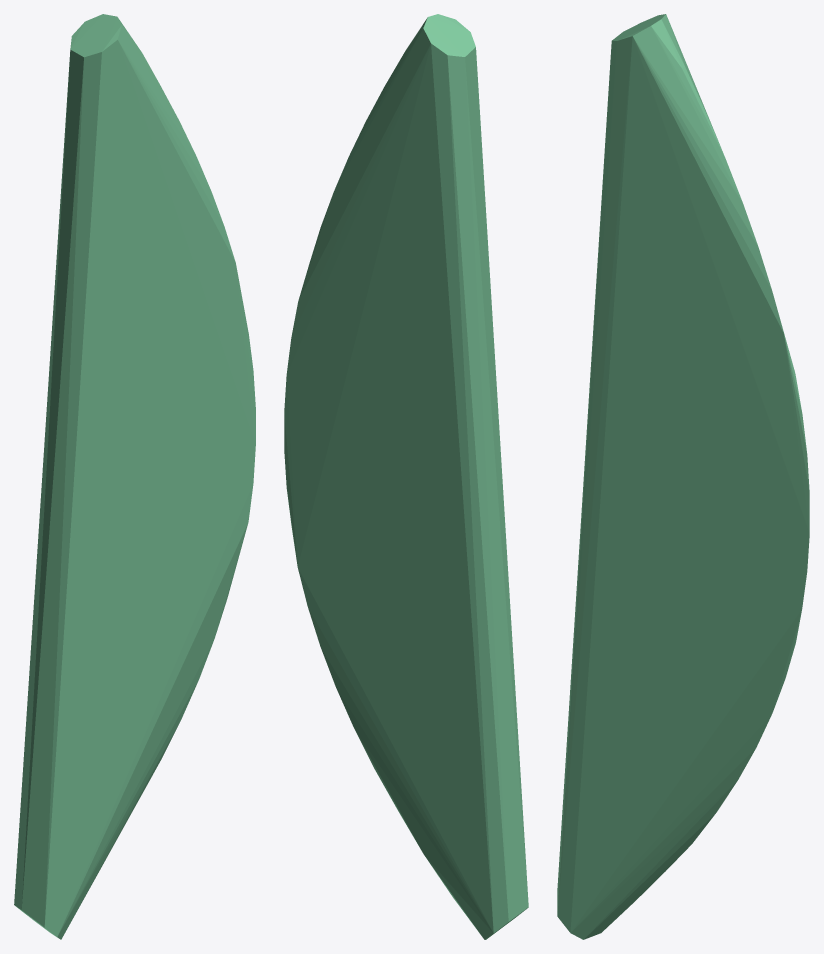
File: consumable_hose_fuel_a02.glb
3 renders of one model, left to right at view 1: azimuth 30°, elevation 25°; view 2: azimuth 150°, elevation 25°; view 3: azimuth 330°, elevation 25°, orthographic. The views are drawn at different scales.
Parts seen in each view (by area): view 1: geometry_0; view 2: geometry_0; view 3: geometry_0.
Boxes of the visible parts, <box> form: geometry_0: <box>14,14,255,939</box>; geometry_0: <box>284,14,528,939</box>; geometry_0: <box>557,14,809,939</box>.
Size of the model in its own units: 0.1329 by 0.4793 by 0.0276.
